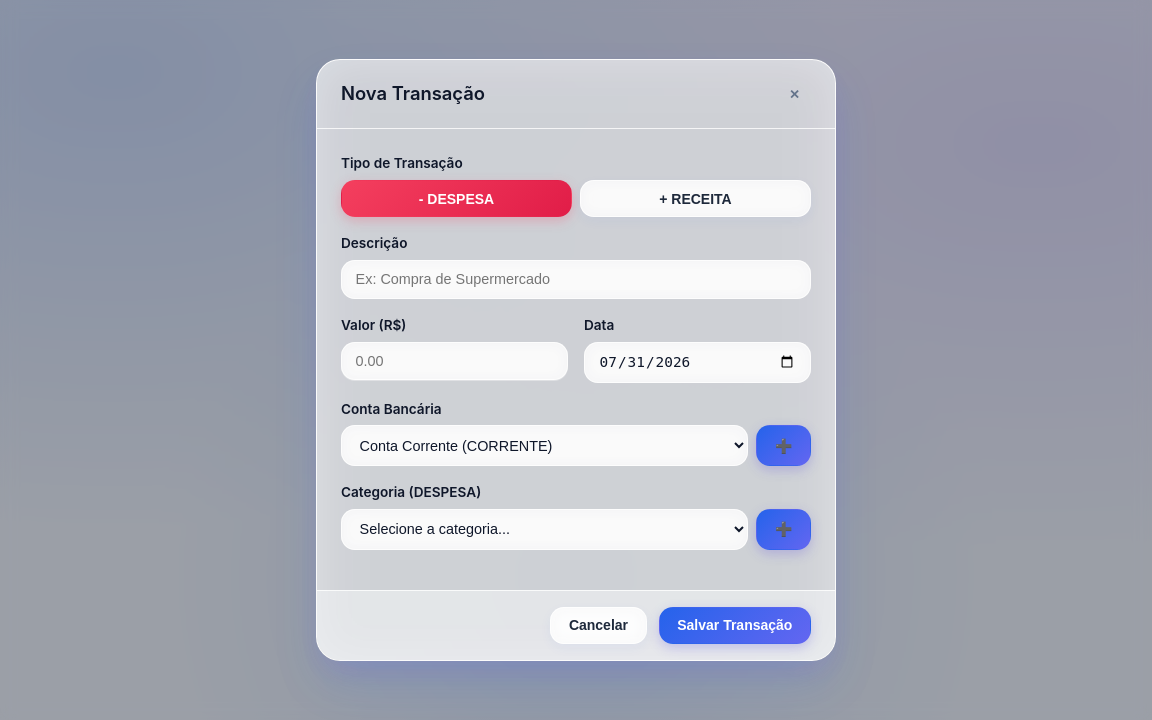
Empirical Verification: Dynamic Category Filtering › 3.2 Dynamically filters categories when tipo changes to RECEITA and resets category selection
Note: Click RECEITA button
Click the button "+ RECEITA". click: (696, 199)
box: x1=580 y1=180 x2=811 y2=217
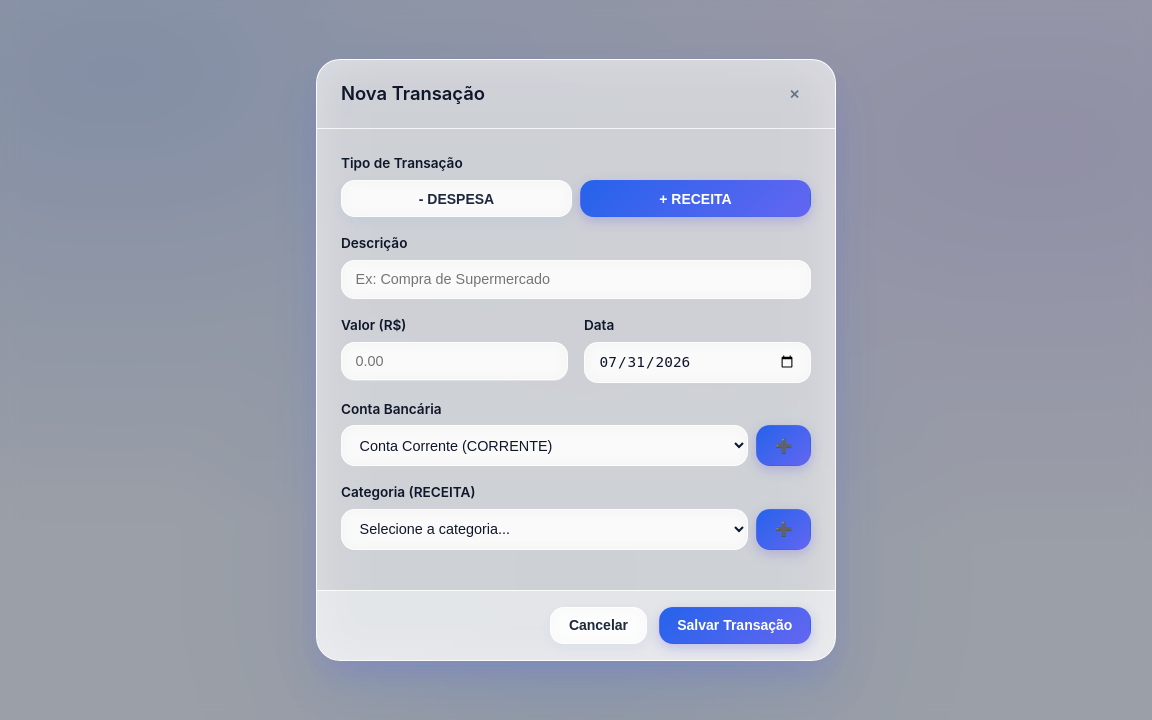
Expected: the text "Categoria (RECEITA)" is shown, x1=341 y1=484 x2=476 y2=500
